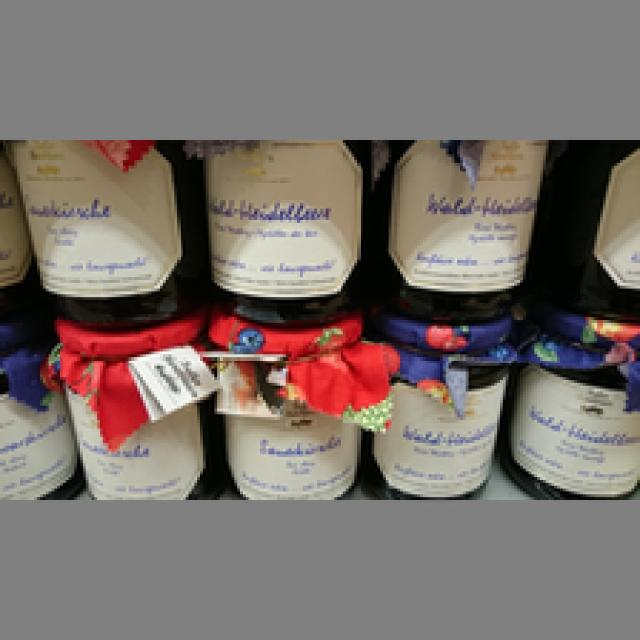groceries: (3, 140, 200, 326), (186, 137, 371, 323), (203, 309, 380, 494), (40, 312, 214, 497), (374, 137, 549, 314), (363, 312, 511, 497), (497, 303, 637, 497)
